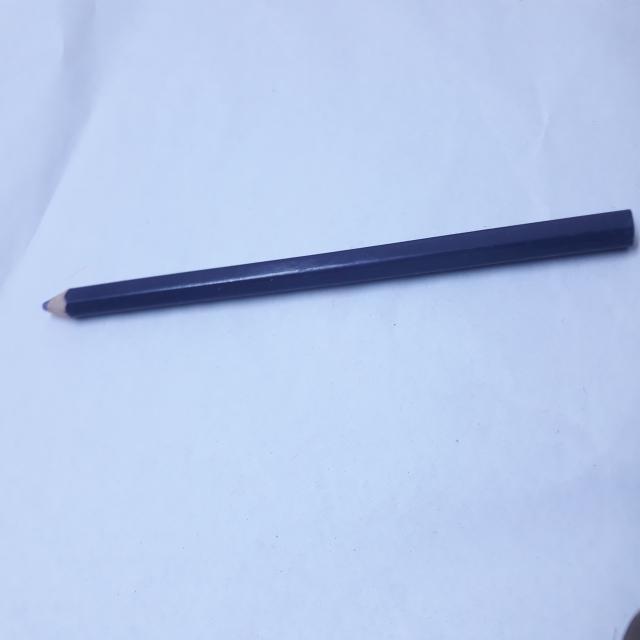pencil: (39, 202, 638, 330)
